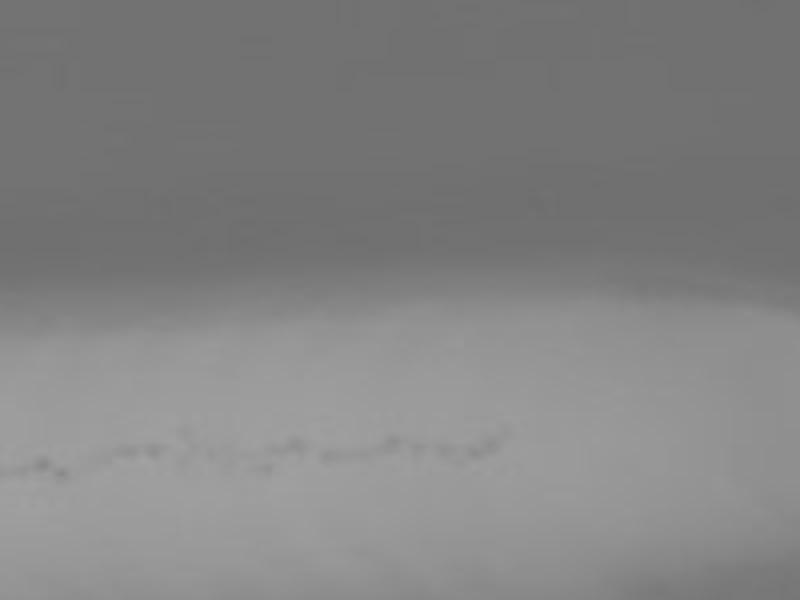defect: (318, 448, 371, 465), (375, 431, 399, 454), (284, 440, 307, 462), (114, 442, 139, 460), (465, 445, 486, 465), (142, 443, 164, 462), (486, 435, 504, 456), (252, 461, 274, 478), (432, 441, 450, 460), (409, 441, 427, 456), (33, 454, 48, 470), (173, 427, 189, 442), (54, 465, 68, 479), (202, 448, 216, 462)
